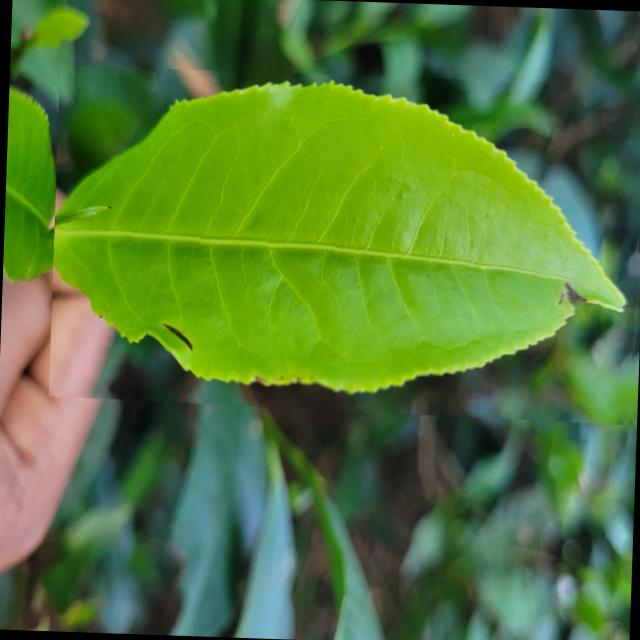Catagory A(1-2 days): (46, 65, 640, 425)
